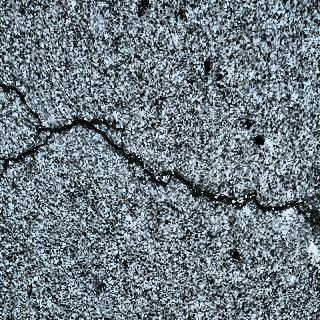crack: (52, 117, 319, 218), (1, 78, 54, 169)
